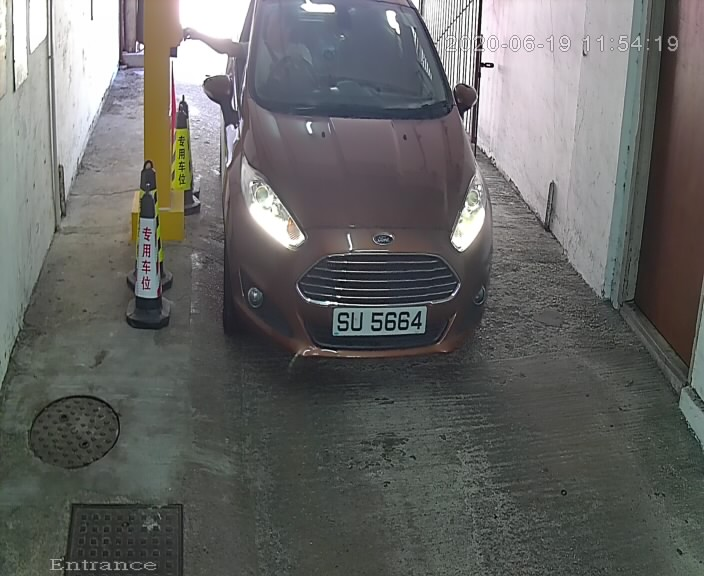privatecar: (194, 3, 513, 375)
